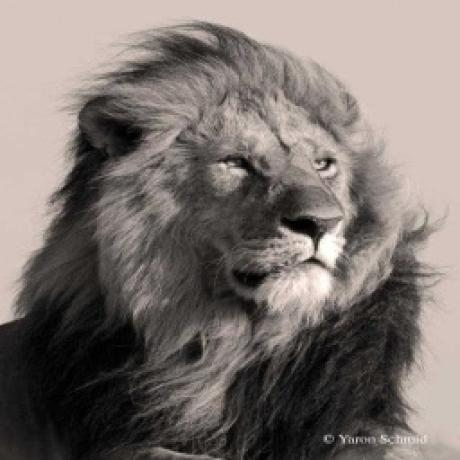Lion: (0, 16, 442, 460)
